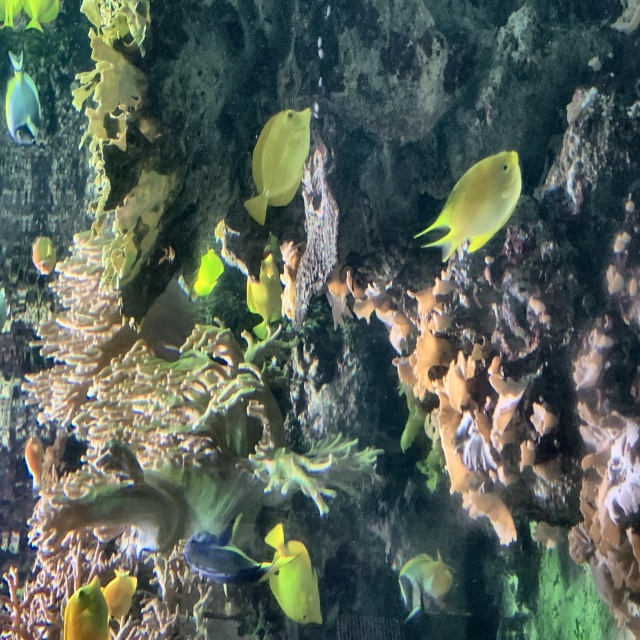fish: (413, 150, 523, 262), (243, 106, 312, 226), (258, 519, 327, 628), (177, 526, 280, 591), (4, 48, 49, 149), (393, 546, 457, 613), (239, 248, 285, 336), (60, 574, 113, 639), (101, 563, 141, 628), (22, 429, 49, 489), (194, 245, 224, 298), (28, 235, 58, 276), (27, 0, 59, 36)
